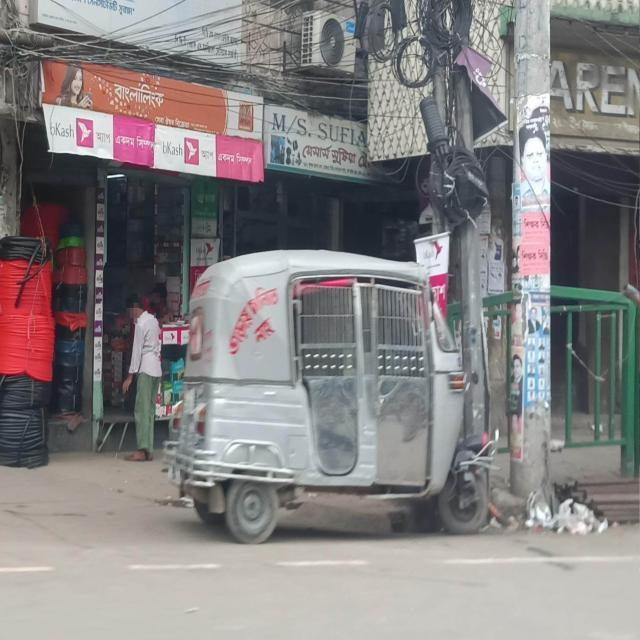CNG: (132, 227, 529, 558)
